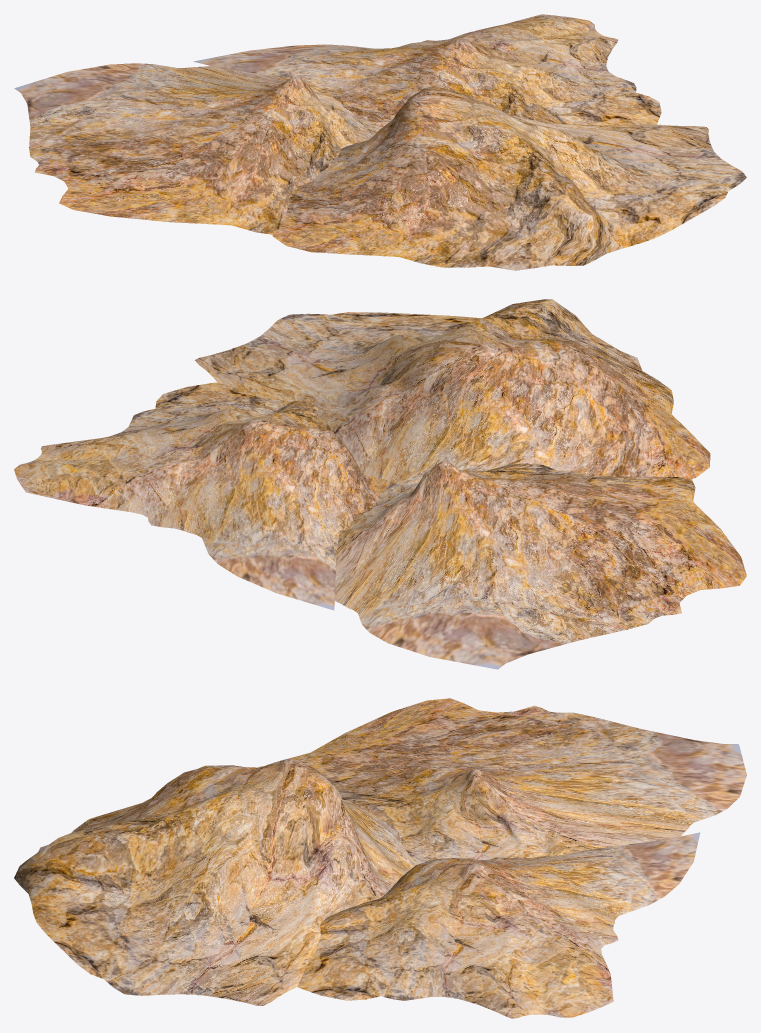
3 views of the same model, one above another, from view 1: azimuth 30°, elevation 25°; view 2: azimuth 150°, elevation 25°; view 3: azimuth 270°, elevation 25° (orthographic). The views are drawn at different scales.
Parts seen in each view (by area): view 1: Plane003, Plane001, Plane002; view 2: Plane001, Plane003, Plane002; view 3: Plane003, Plane001, Plane002.
Part boxes in pixels (box(x1,y1,x2,y2)): Plane003: box(272, 86, 746, 270); Plane001: box(14, 63, 381, 234); Plane002: box(193, 14, 661, 127); Plane001: box(335, 461, 746, 669); Plane003: box(195, 299, 710, 484); Plane002: box(14, 382, 395, 610); Plane003: box(14, 758, 415, 1005); Plane001: box(264, 698, 746, 864); Plane002: box(297, 832, 700, 1018).
Size of the model in its own units: 17737 by 2858 by 17143.
Materials: 1 (1 with a texture image).
